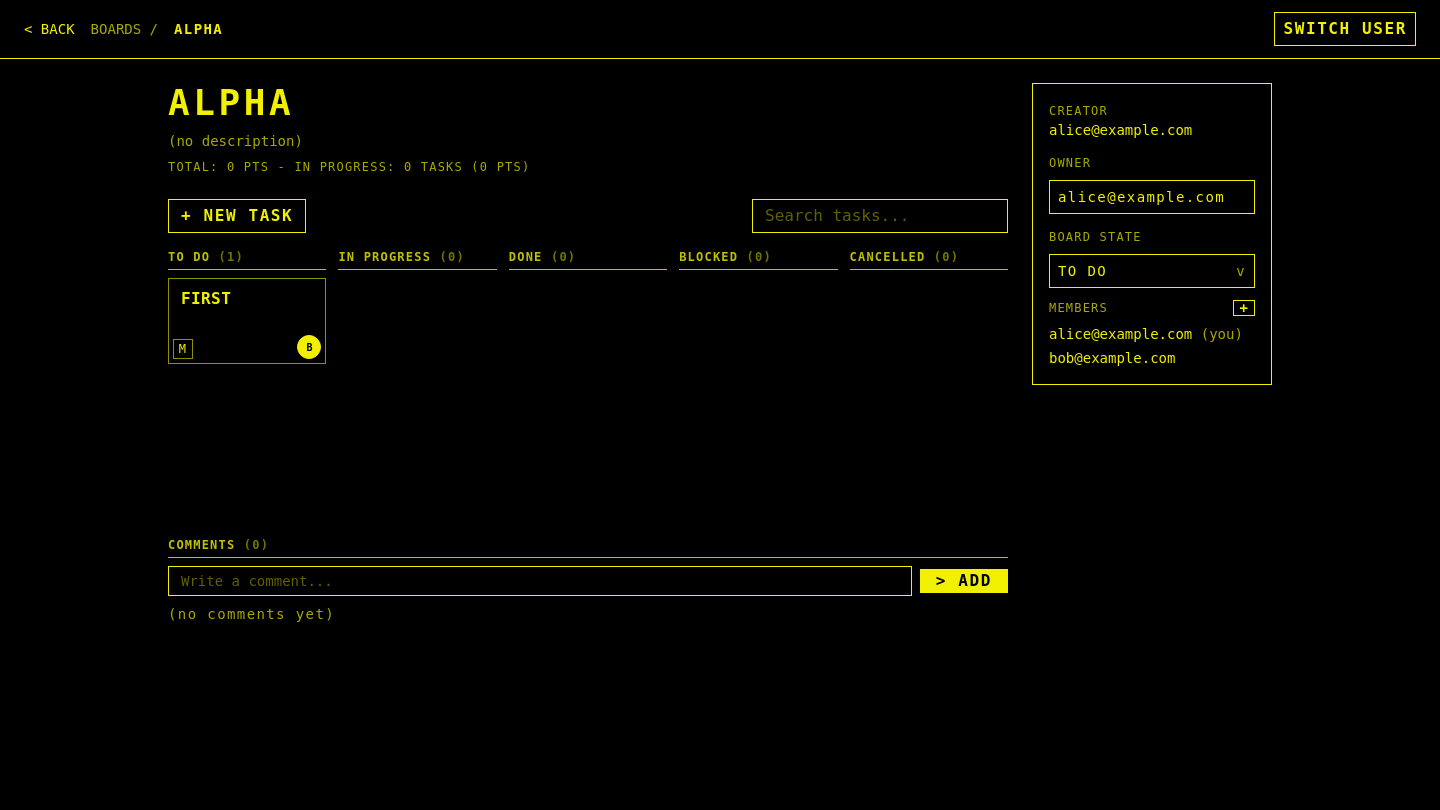
Test: BoardDetailPage › applies a board move and refreshes the shown state
Click the dropdown named "Board state".
click(1152, 271)  # box [1049,254,1255,288]
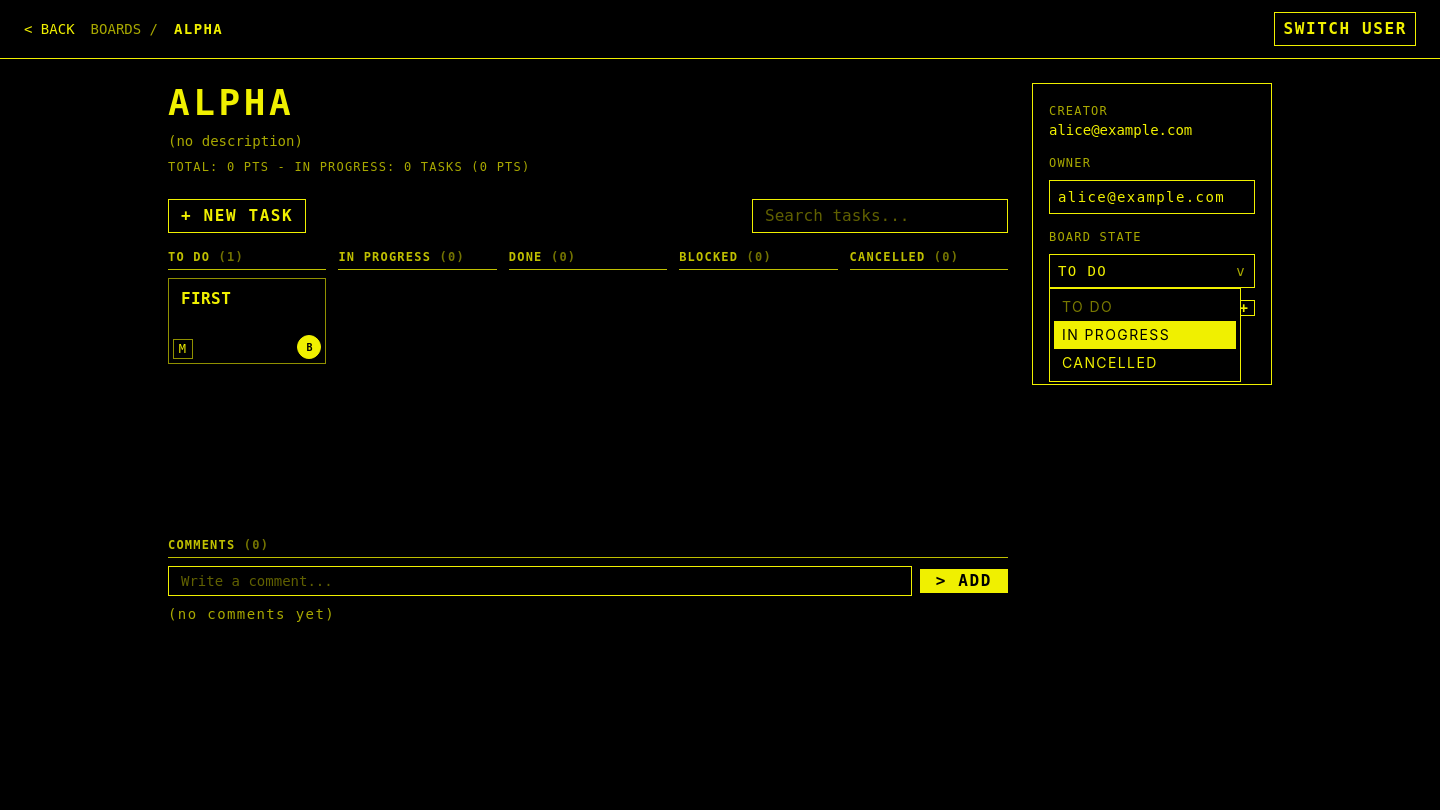
Click the option "IN PROGRESS".
click(1145, 335)  # box [1054,321,1236,349]
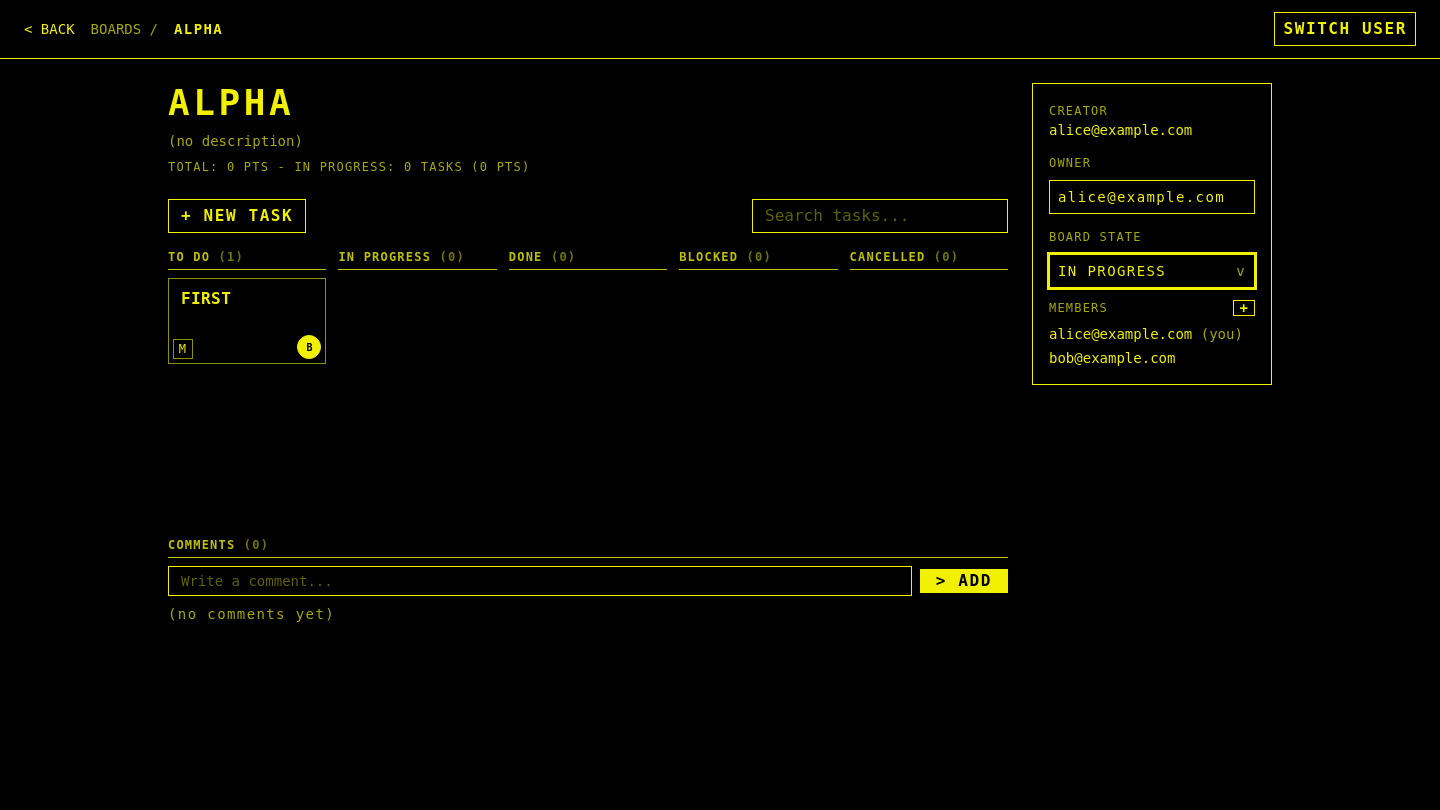
Now the dropdown named "Board state" shows "IN PROGRESS", box [1049,254,1255,288]
